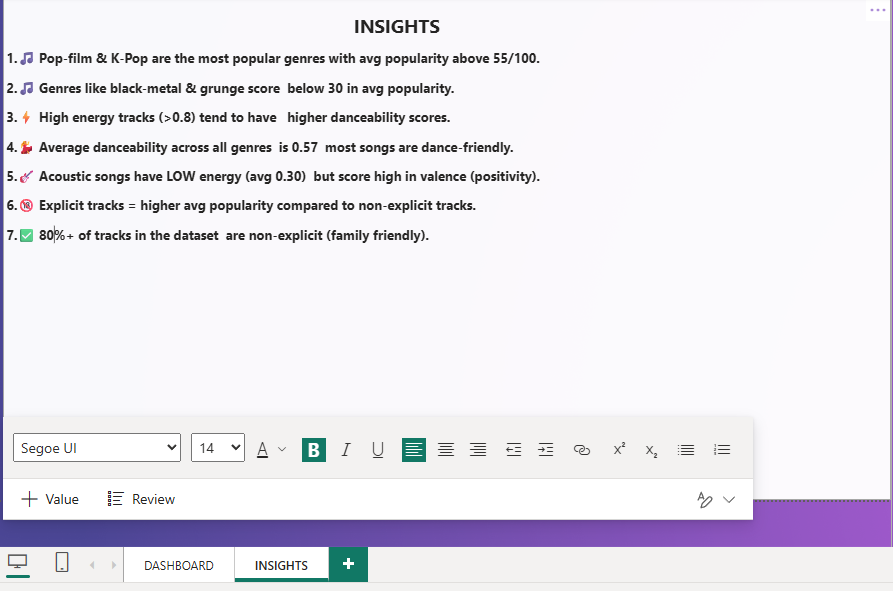

The dashboard page shown, as its layout file describes it:
{"tool":"powerbi","page":{"name":"INSIGHTS","canvas":[1280,720],"ordinal":1},"visuals":[{"type":"textbox","box":[10,0,1270,719.4],"z":0}]}

Visuals, with their boxes on the page's 1280x720 design canvas (x1, y1, x2, y2). These are canvas units, not pixel positions in the 893x591 screenshot, which may show the page scaled, cropped or inside an application window:
textbox: {"left": 10, "top": 0, "right": 1280, "bottom": 719}
